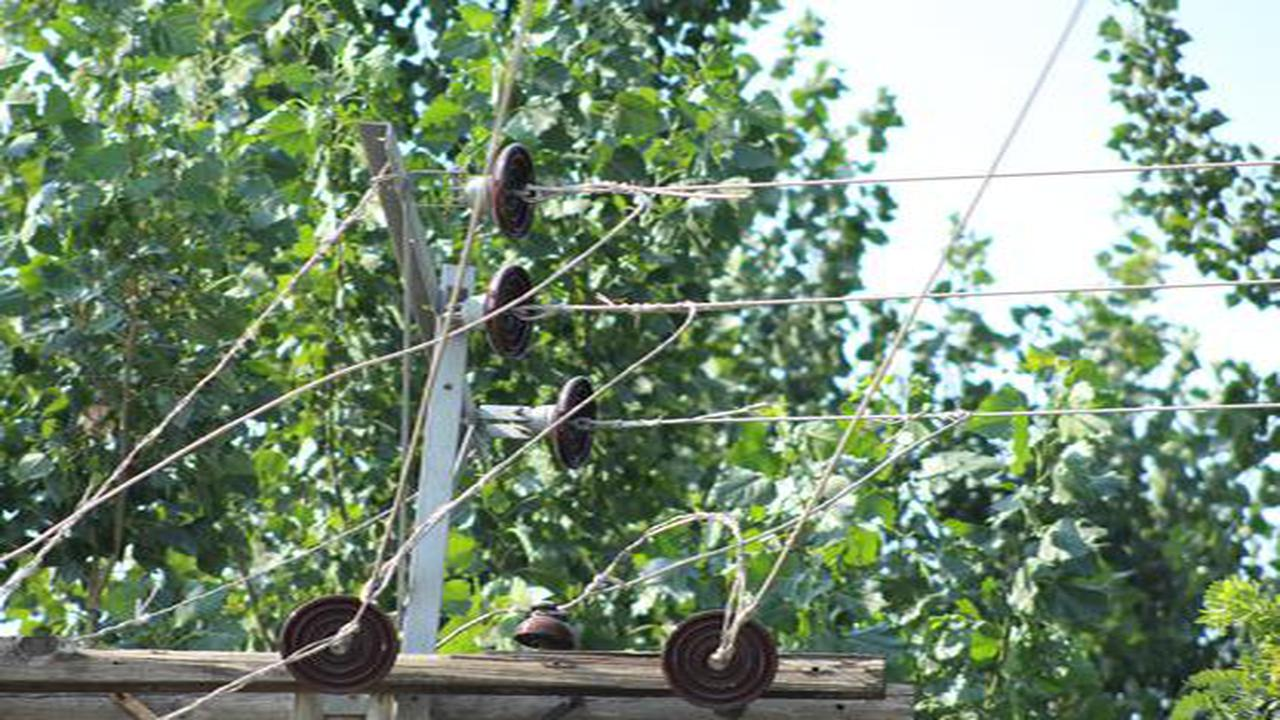insulator_disc: (275, 590, 407, 698), (661, 607, 793, 715), (510, 372, 609, 474), (459, 139, 542, 246), (460, 260, 543, 363)
insulator_pin: (509, 595, 583, 654)
